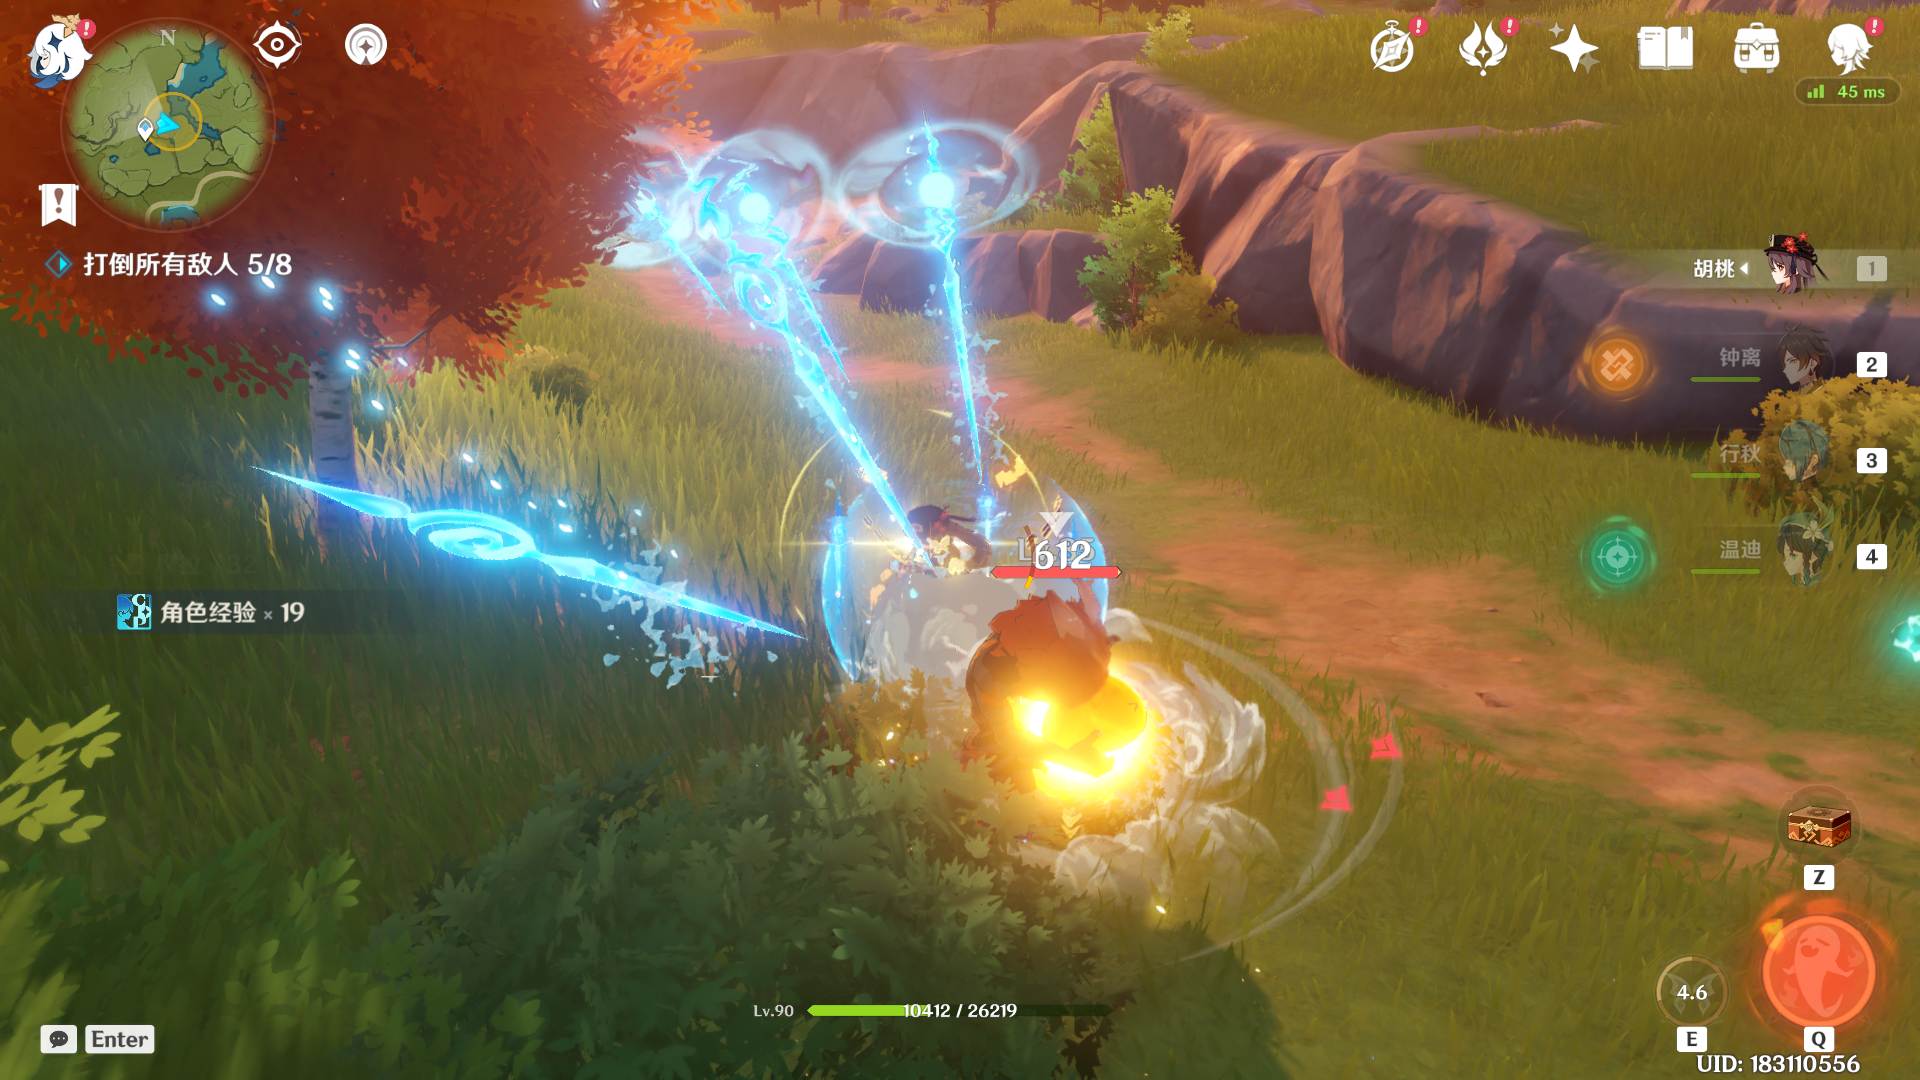hili: (940, 584, 1151, 855)
